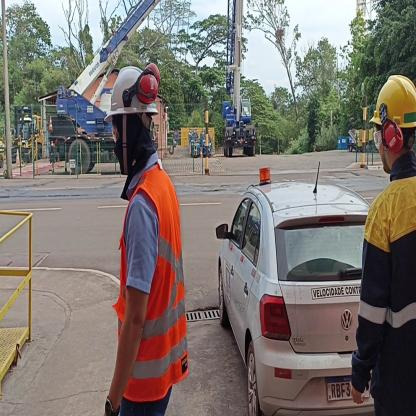C_eletrica: (359, 176, 416, 416), (112, 117, 154, 174)
Capacete: (370, 72, 416, 128), (109, 65, 160, 115)
colete: (115, 178, 191, 394)
